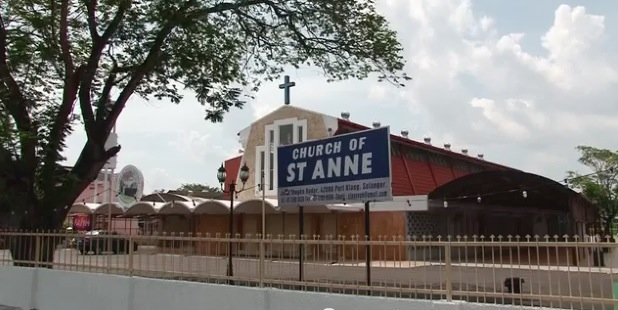Church: (210, 67, 578, 246)
